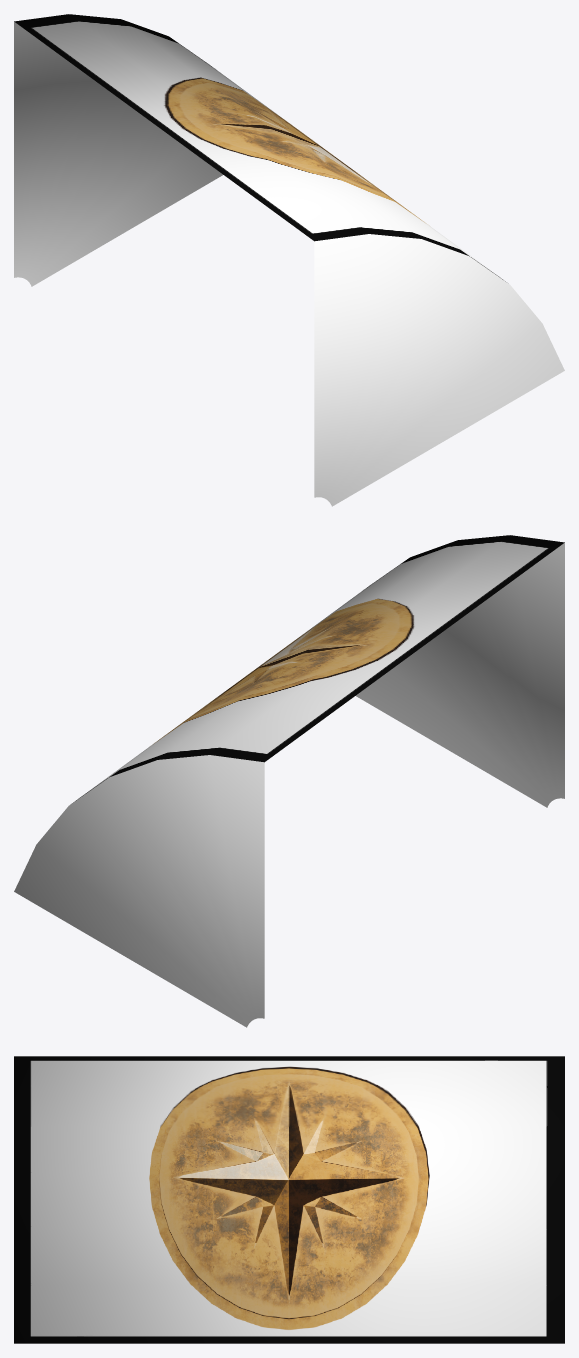
Rendered from roulette01.fbx.
The picture shows the model from 3 angles, top to bottom: view 1: azimuth 30°, elevation 25°; view 2: azimuth 150°, elevation 25°; view 3: azimuth 270°, elevation 25°; orthographic projection. The views are drawn at different scales.
Parts seen in each view (by area): view 1: roulette01; view 2: roulette01; view 3: roulette01.
Part boxes in pixels (x1=…): roulette01: x1=14, y1=14, x2=564, y2=506; roulette01: x1=14, y1=535, x2=564, y2=1027; roulette01: x1=14, y1=1056, x2=564, y2=1343.
Size of the model in its own units: 64.6 by 66.44 by 134.
